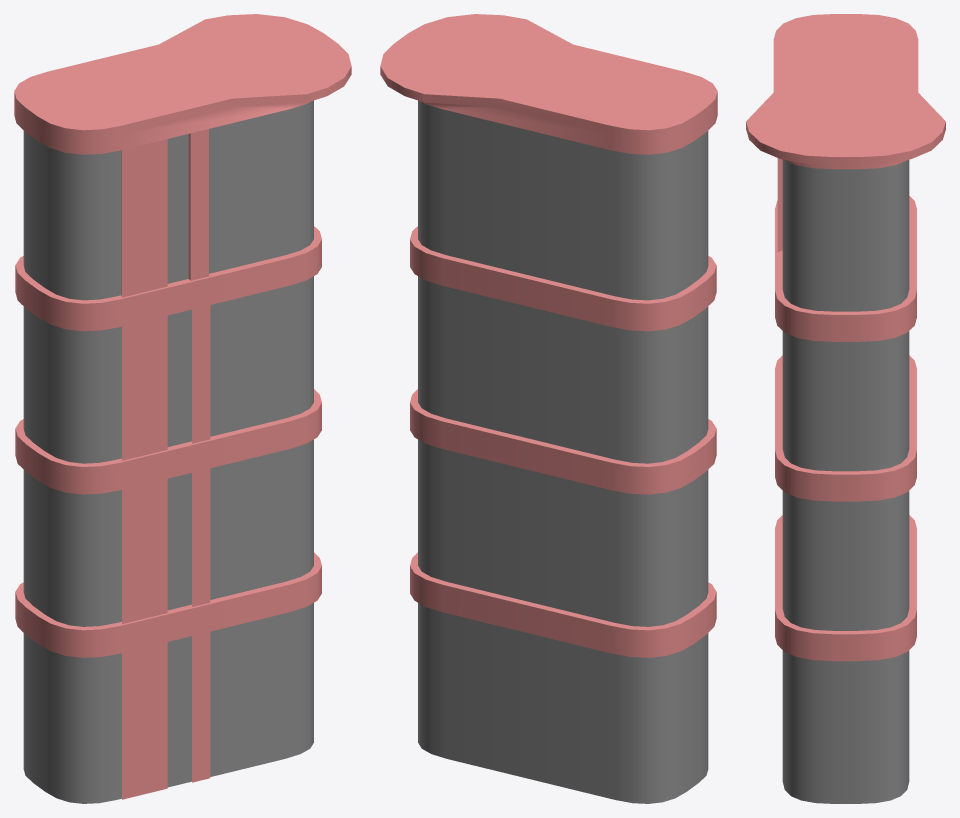
Rendered from S_Envi_Umeda_Building_031.gltf.
3 views of the same model, side by side, from view 1: azimuth 30°, elevation 25°; view 2: azimuth 150°, elevation 25°; view 3: azimuth 270°, elevation 25° (orthographic). The views are drawn at different scales.
Visible parts, largest first — view 1: S_Envi_Umeda_Building_031; view 2: S_Envi_Umeda_Building_031; view 3: S_Envi_Umeda_Building_031.
Part boxes in pixels (x1,y1,x2,y2): S_Envi_Umeda_Building_031: [14, 14, 351, 803]; S_Envi_Umeda_Building_031: [380, 14, 717, 803]; S_Envi_Umeda_Building_031: [746, 14, 945, 803].
Bounding box in the file's own units: 28.99 × 62.61 × 17.12.
